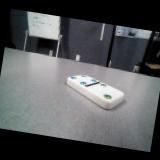domino: (67, 75, 124, 109)
